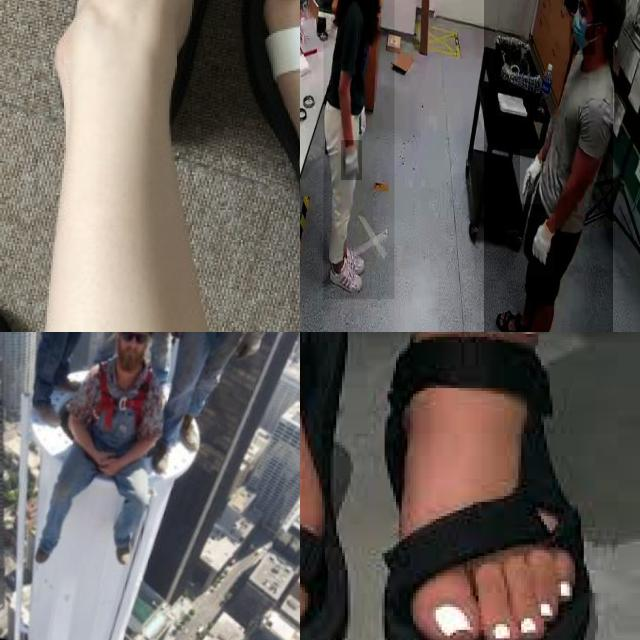Sandals: (375, 332, 591, 640)
face_mask: (569, 0, 594, 55)
hand_glove: (528, 213, 556, 276), (520, 149, 542, 205), (341, 140, 363, 181)
person: (484, 0, 613, 332), (323, 0, 394, 300)
shoes: (328, 254, 364, 300)
